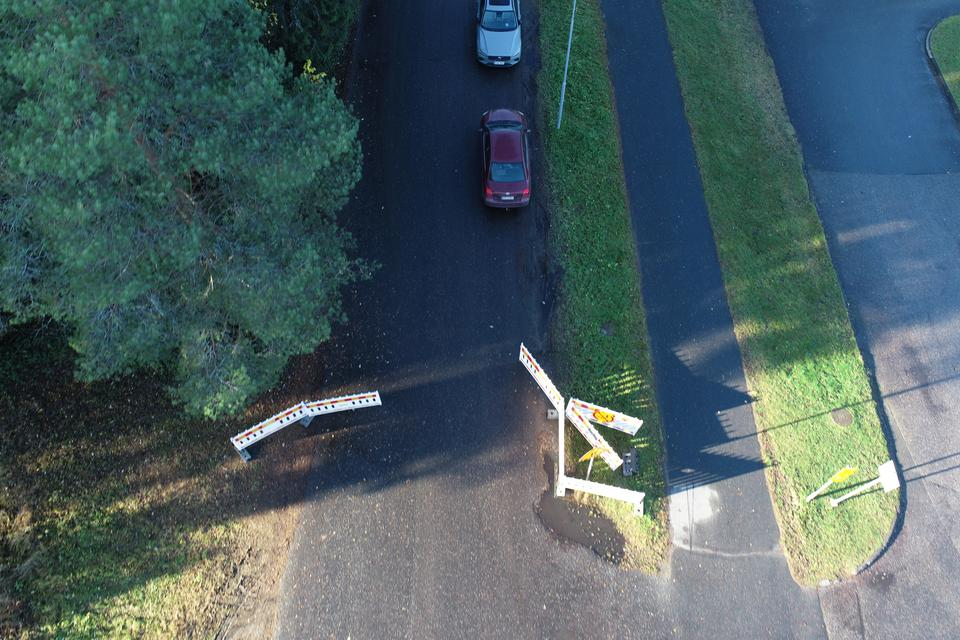intersection: (236, 422, 960, 640)
